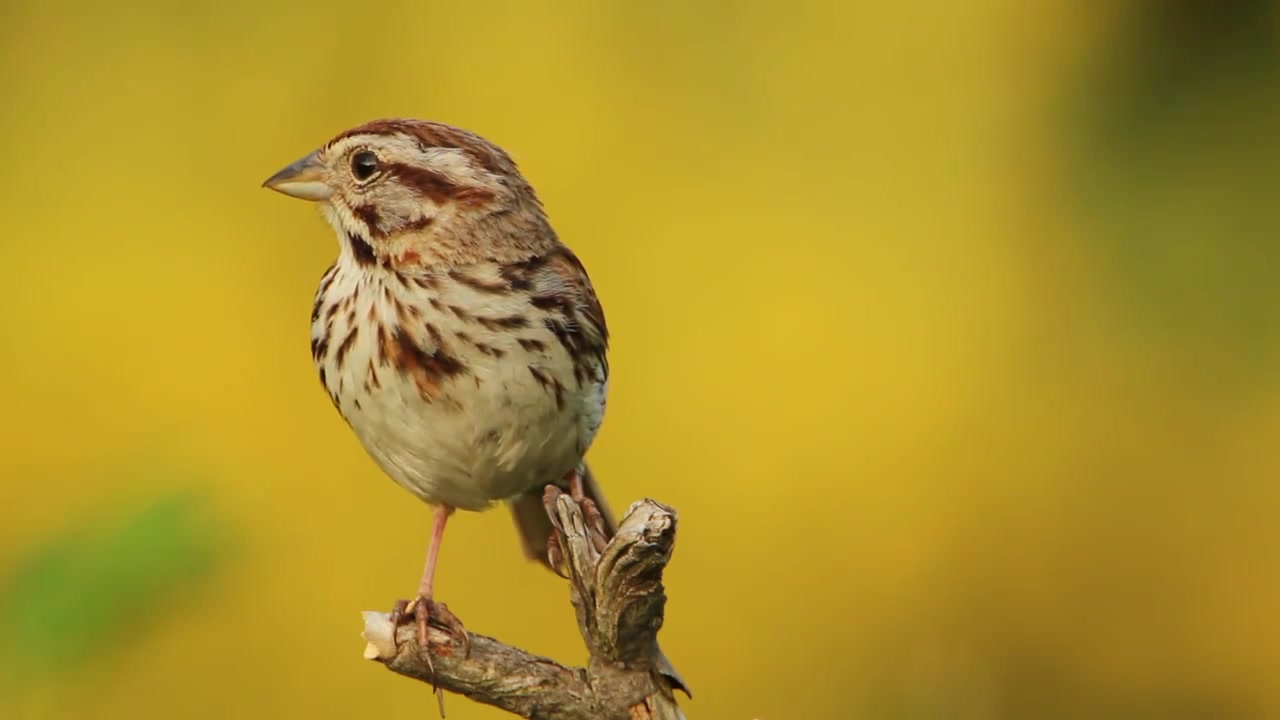bird: (259, 118, 620, 700)
